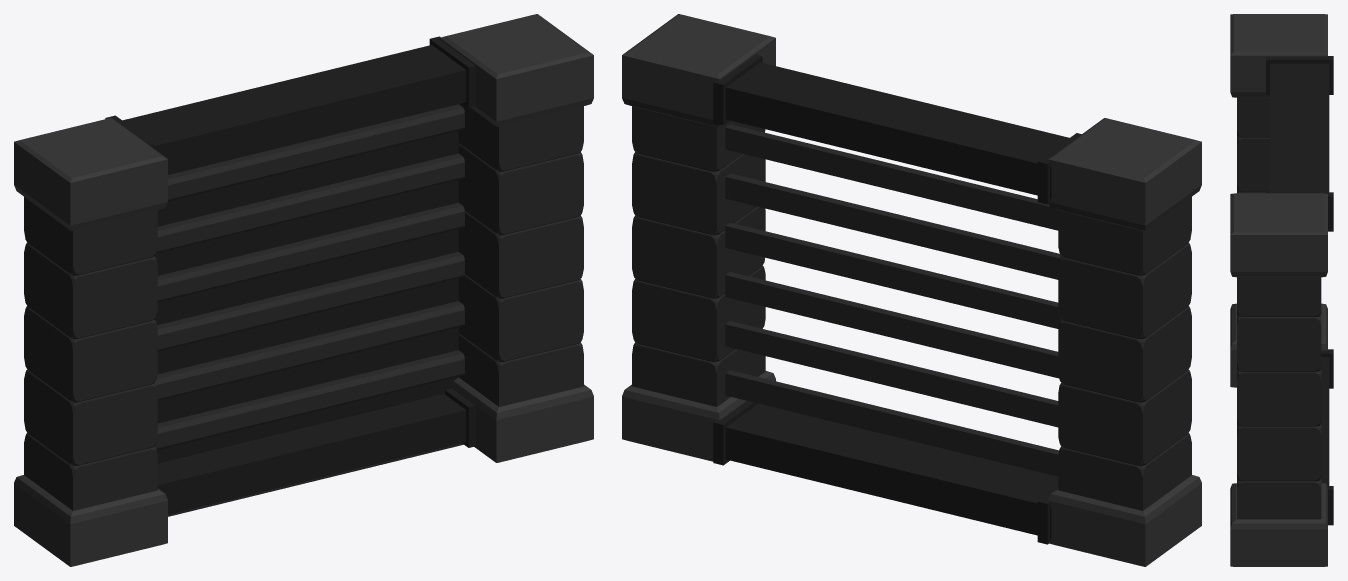
File: Wall_02.fbx
3 renders of one model, left to right at view 1: azimuth 30°, elevation 25°; view 2: azimuth 150°, elevation 25°; view 3: azimuth 270°, elevation 25°, orthographic. The views are drawn at different scales.
Visible parts, largest first — view 1: Wall_02; view 2: Wall_02; view 3: Wall_02.
Part boxes in pixels (<box>): Wall_02: <box>14,14,593,566</box>; Wall_02: <box>622,14,1201,566</box>; Wall_02: <box>1230,14,1333,566</box>.
Size of the model in its own units: 1598 by 1175 by 316.
